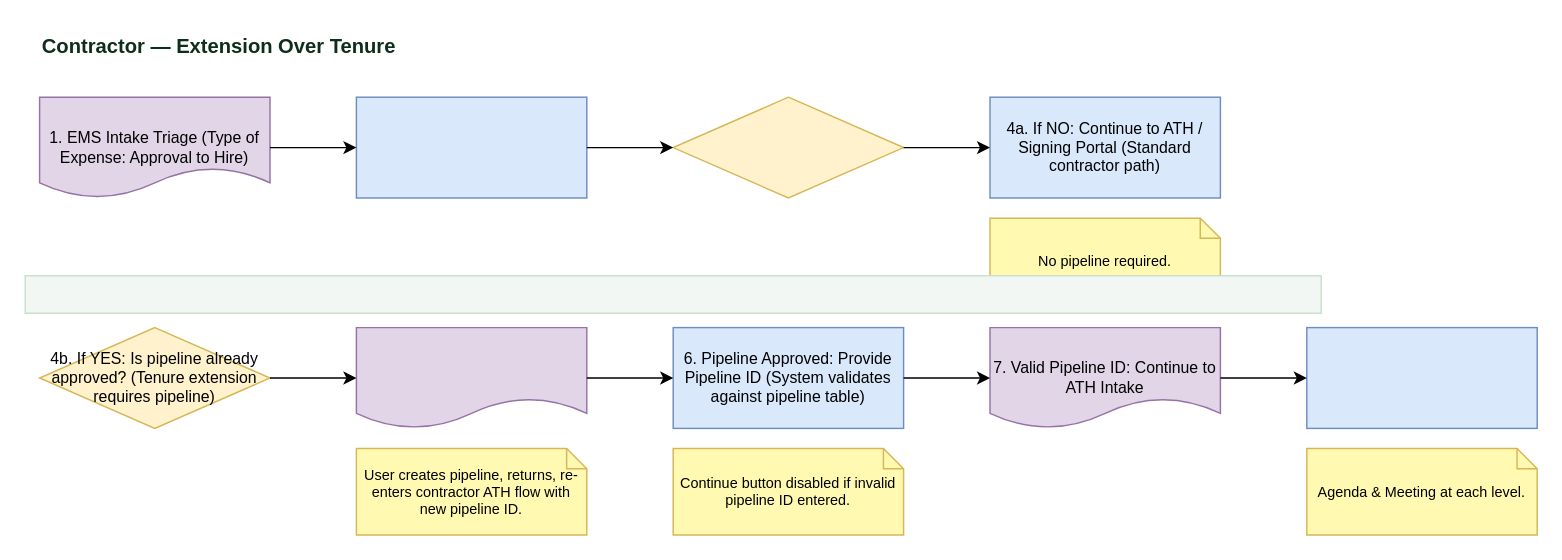
This 1562x560 diagram has some shape labels left out. Here are the shapes that lost their labels. From the top down, the centre of each, then its label:
At pixel 471 147: "2. Select Resource Type: Contractor".
At pixel 788 147: "3. Is this an extension over tenure? (Decision point)".
At pixel 672 293: "PHASE: Pipeline Branch (if Extension = Yes)".
At pixel 471 377: "5. Pipeline NOT Approved: Go to Pipeline Intake (User completes pipeline first)".
At pixel 1421 377: "8. ATH Approval Flow (AVP -> VP -> SVP -> EVP (pending LOB))".
